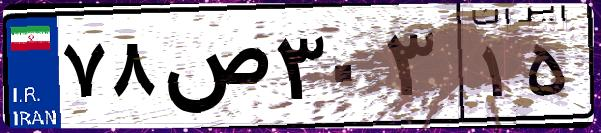0: (330, 28, 385, 110)
1: (475, 38, 525, 113)
3: (270, 28, 330, 110), (385, 28, 445, 110)
5: (525, 38, 570, 115)
7: (57, 26, 110, 100)
8: (110, 28, 158, 98)
ص: (158, 20, 270, 120)
